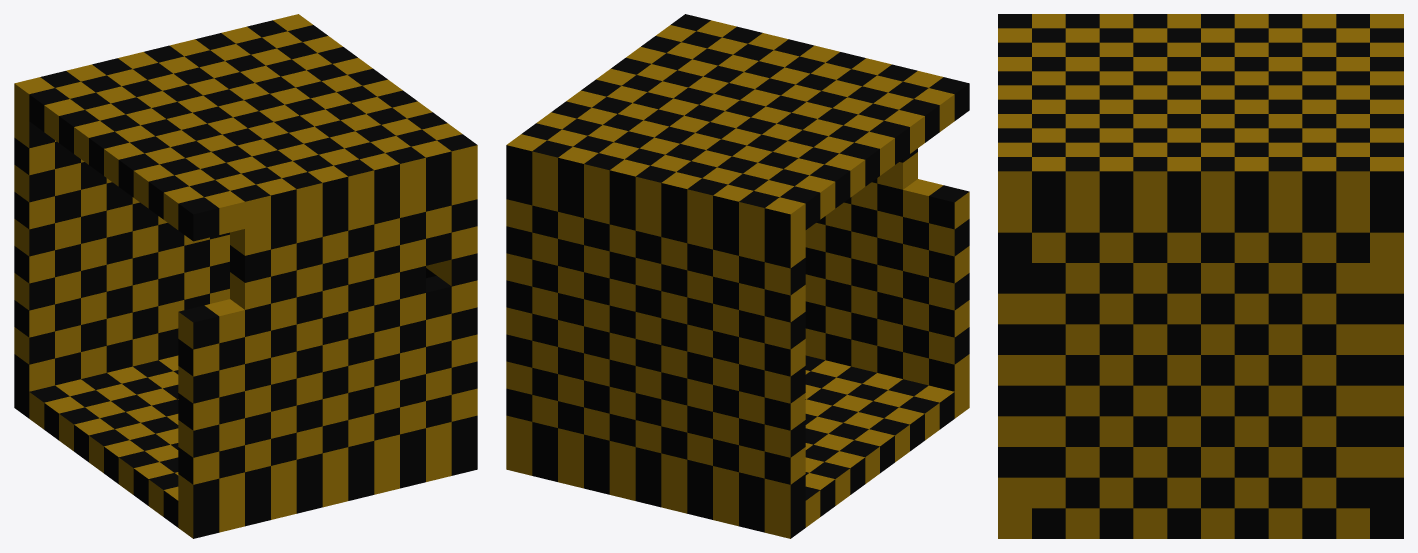
Rendered from 挖空房间.fbx.
3 views of the same model, side by side, from view 1: azimuth 30°, elevation 25°; view 2: azimuth 150°, elevation 25°; view 3: azimuth 270°, elevation 25° (orthographic). The views are drawn at different scales.
Visible parts, largest first — view 1: 房间.006; view 2: 房间.006; view 3: 房间.006.
Boxes of the visible parts, <box> form: 房间.006: <box>14,14,477,538</box>; 房间.006: <box>506,14,969,538</box>; 房间.006: <box>998,14,1403,538</box>.
Bounding box in the file's own units: 2200 × 2400 × 2400.
